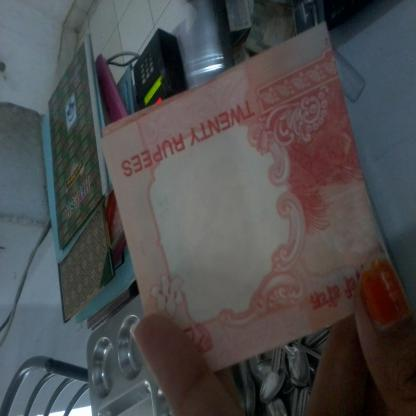Old20Back: (121, 74, 384, 356)
